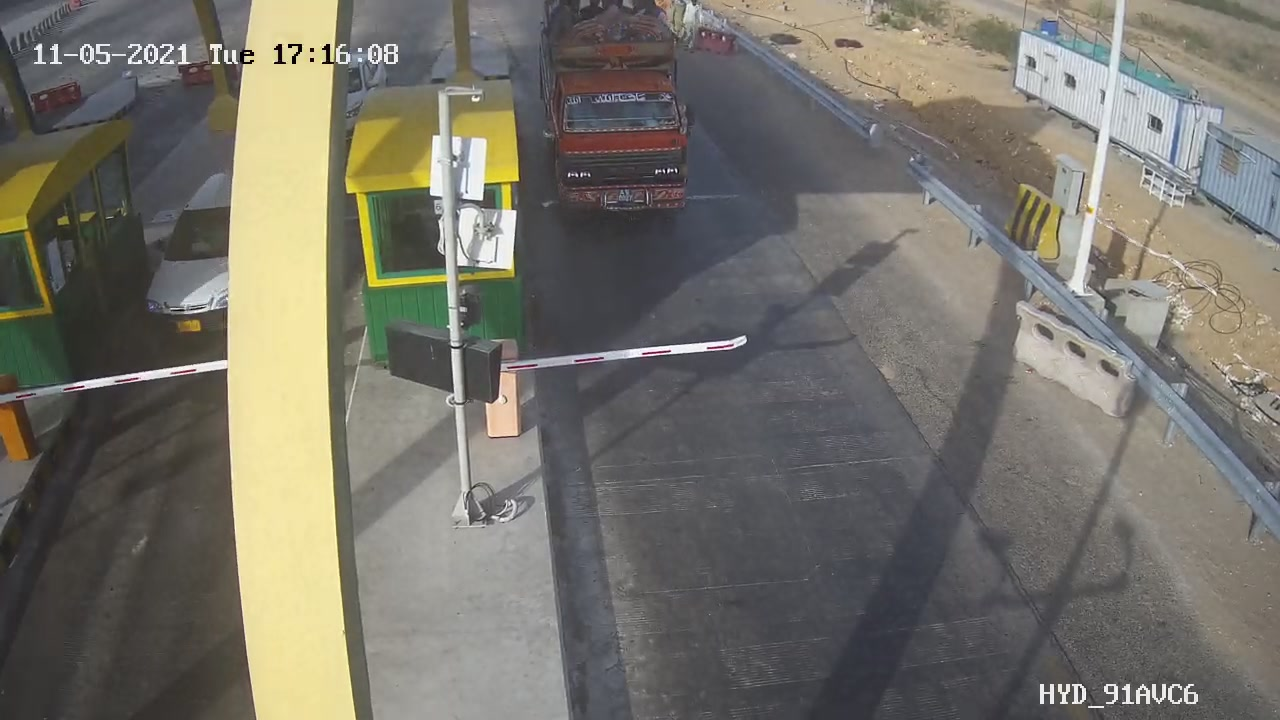F5: (527, 1, 718, 231)
